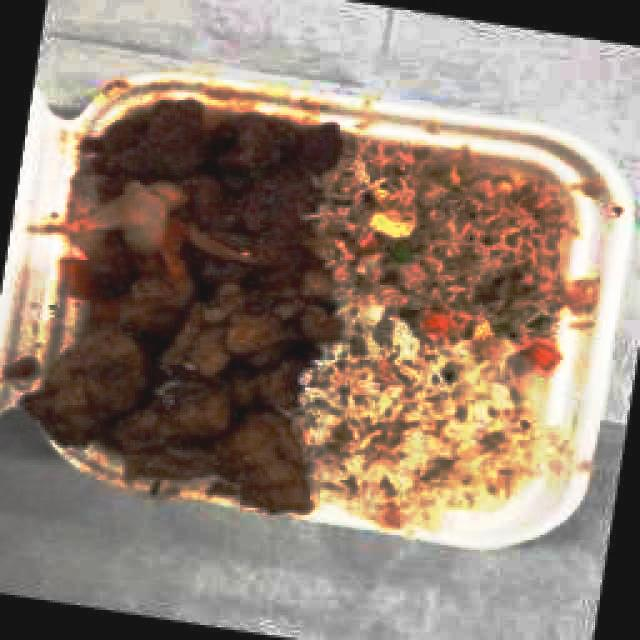Beijing Beef: (48, 94, 338, 290)
Fried Rice: (354, 161, 542, 309)
Kung Pao Chicken: (63, 284, 306, 484)
rice: (334, 321, 522, 504)
